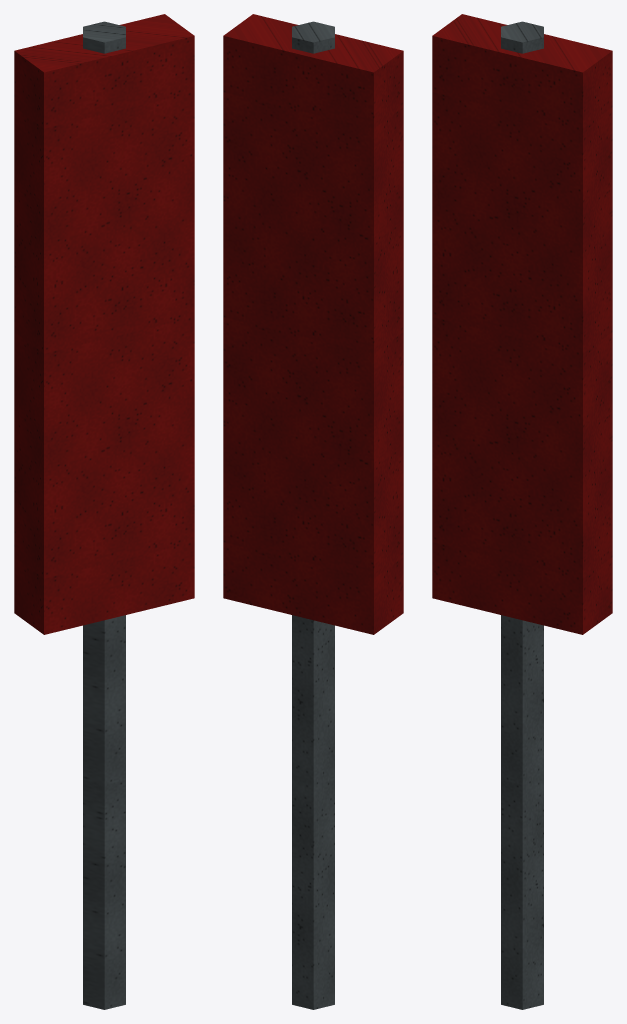
The model's file is PROP-336B99EB1AE5_lod2.glb.
The picture shows the model from 3 angles, left to right: view 1: azimuth 30°, elevation 25°; view 2: azimuth 150°, elevation 25°; view 3: azimuth 330°, elevation 25°; orthographic projection.
Visible parts, largest first — view 1: motel_vertical_sign.001, motel_post.001; view 2: motel_vertical_sign.001, motel_post.001; view 3: motel_vertical_sign.001, motel_post.001.
Part boxes in pixels (x1,y1,x2,y2): motel_vertical_sign.001: [14, 14, 194, 634]; motel_post.001: [83, 21, 125, 1009]; motel_vertical_sign.001: [223, 14, 403, 634]; motel_post.001: [292, 21, 334, 1009]; motel_vertical_sign.001: [432, 14, 612, 634]; motel_post.001: [501, 21, 543, 1009].
Bounding box in the file's own units: 0.7 × 4.3 × 0.24.
2 materials, 2 textured.
